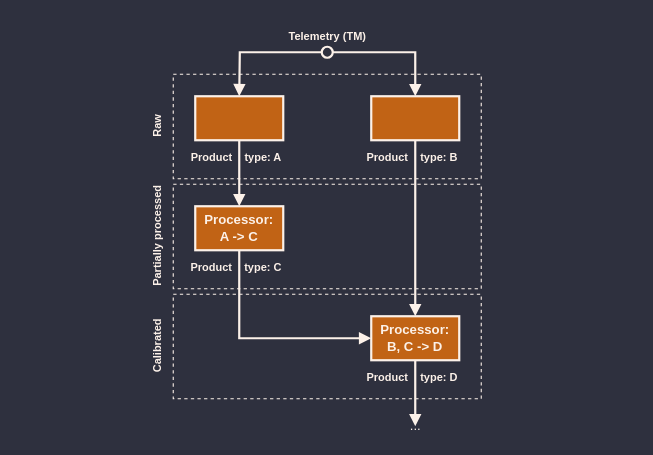
The diagram is 653 pixels wide and 455 high, and some of its shapes have lost their labels. The box of each missing label's shape, as (x1, y1, x2, y2) in pixels:
Processor: TM -> A: (194, 95, 284, 141)
Processor: TM -> B: (370, 95, 460, 141)
